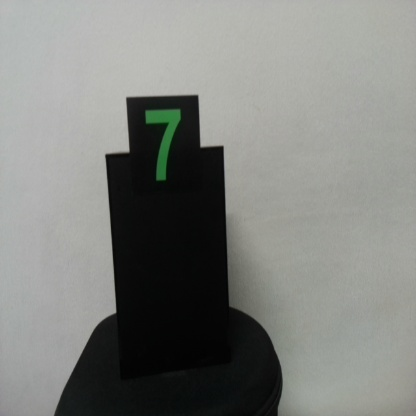id_7: (127, 98, 201, 202)
